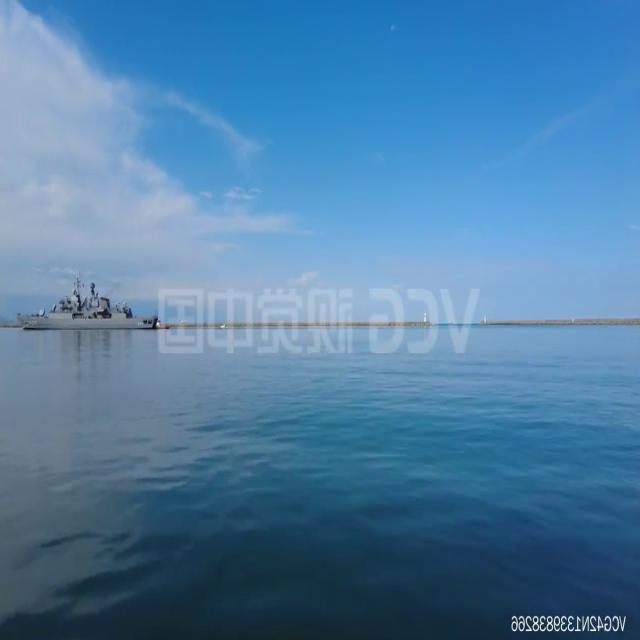navalvessels: (15, 276, 159, 330)
